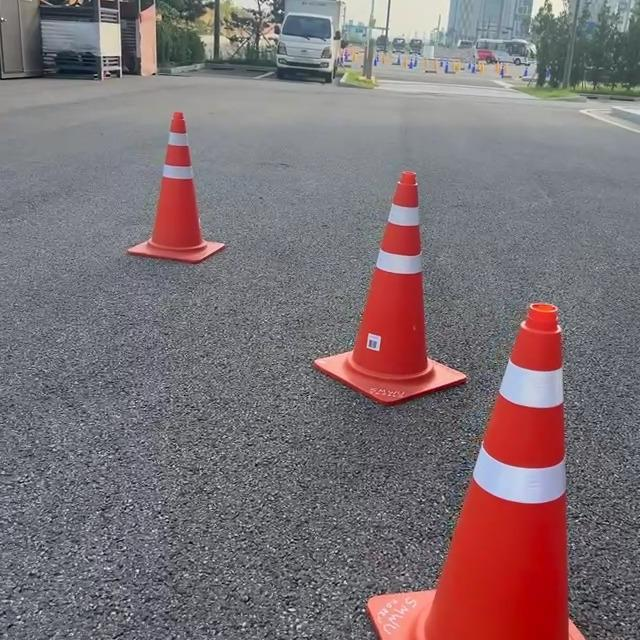fallen_object: (399, 253, 640, 640), (263, 132, 472, 500), (100, 36, 226, 288)
